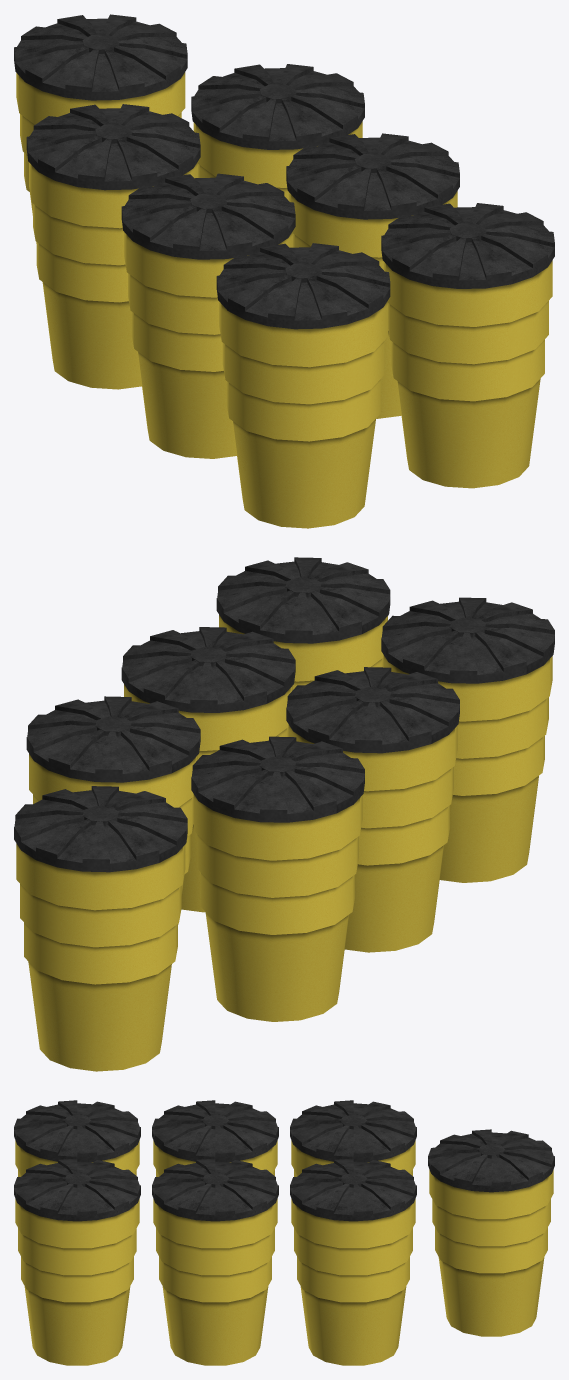
File: GSDRoadBarrel7.fbx
The picture shows the model from 3 angles, top to bottom: view 1: azimuth 30°, elevation 25°; view 2: azimuth 150°, elevation 25°; view 3: azimuth 270°, elevation 25°; orthographic projection. The views are drawn at different scales.
Parts seen in each view (by area): view 1: GSDRoadBarrel7; view 2: GSDRoadBarrel7; view 3: GSDRoadBarrel7.
Part boxes in pixels (x1,y1,x2,y2): GSDRoadBarrel7: [14, 14, 554, 528]; GSDRoadBarrel7: [14, 557, 554, 1071]; GSDRoadBarrel7: [14, 1100, 554, 1365].
Bounding box in the file's own units: 1.92 × 1.35 × 3.92.
